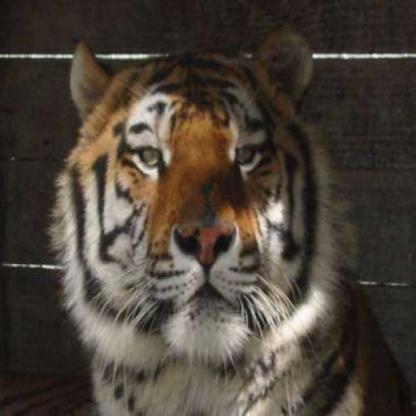Tiger: (28, 16, 397, 415)
